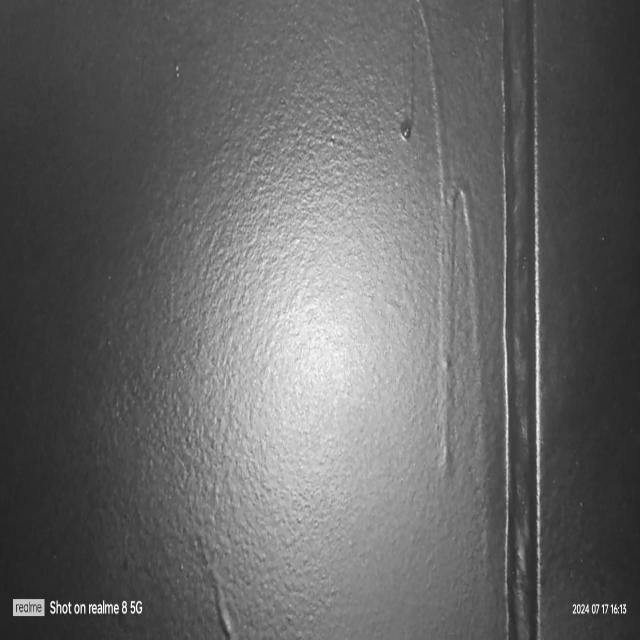paint drips: (389, 0, 500, 622), (201, 554, 255, 640)
